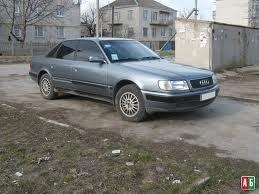car: (18, 26, 232, 141)
